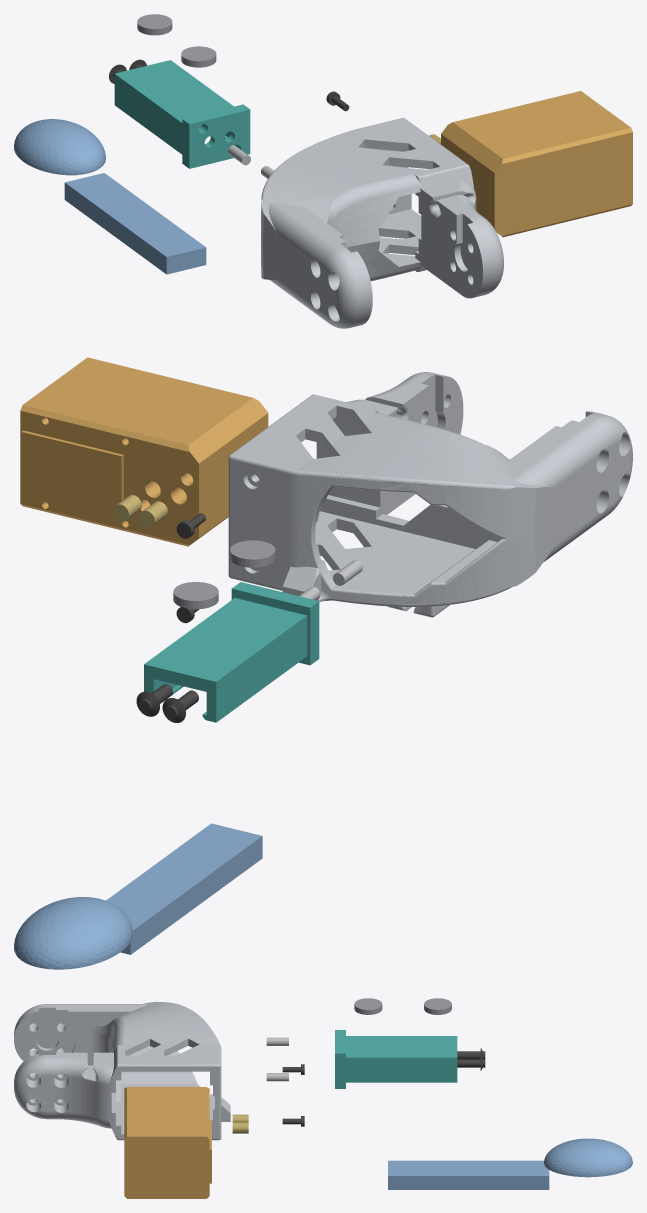
The model's file is Spoonful_Wrist_Exploded.glb.
3 views of the same model, one above another, from view 1: azimuth 30°, elevation 25°; view 2: azimuth 150°, elevation 25°; view 3: azimuth 270°, elevation 25° (orthographic). The views are drawn at different scales.
Visible parts, largest first — view 1: Wrist_Roll_Pitch (existing arm part), Spoon_Block_SO101, PLACEHOLDER spoon (13 x 5.5 handle, 90 mm), Cradle_M, 10x2 magnet 2, 10x2 magnet 1; view 2: Wrist_Roll_Pitch (existing arm part), Spoon_Block_SO101, PLACEHOLDER spoon (13 x 5.5 handle, 90 mm), Cradle_M, 10x2 magnet 1, 10x2 magnet 2; view 3: Wrist_Roll_Pitch (existing arm part), Spoon_Block_SO101, PLACEHOLDER spoon (13 x 5.5 handle, 90 mm), Cradle_M, 10x2 magnet 1, 10x2 magnet 2.
Boxes of the visible parts, <box> form: Wrist_Roll_Pitch (existing arm part): <box>261,117,503,328</box>; Spoon_Block_SO101: <box>441,91,632,237</box>; PLACEHOLDER spoon (13 x 5.5 handle, 90 mm): <box>14,119,206,274</box>; Cradle_M: <box>114,60,250,168</box>; 10x2 magnet 2: <box>137,14,172,35</box>; 10x2 magnet 1: <box>181,46,216,67</box>; Wrist_Roll_Pitch (existing arm part): <box>228,372,632,617</box>; Spoon_Block_SO101: <box>20,357,268,546</box>; PLACEHOLDER spoon (13 x 5.5 handle, 90 mm): <box>14,823,262,969</box>; Cradle_M: <box>144,582,319,722</box>; 10x2 magnet 1: <box>230,540,275,567</box>; 10x2 magnet 2: <box>173,582,218,609</box>; Wrist_Roll_Pitch (existing arm part): <box>14,1001,230,1140</box>; Spoon_Block_SO101: <box>124,1087,211,1198</box>; PLACEHOLDER spoon (13 x 5.5 handle, 90 mm): <box>388,1138,632,1189</box>; Cradle_M: <box>335,1030,457,1088</box>; 10x2 magnet 1: <box>354,998,382,1014</box>; 10x2 magnet 2: <box>424,998,451,1014</box>.
Size of the model in its own units: 117 by 70.6 by 222.
